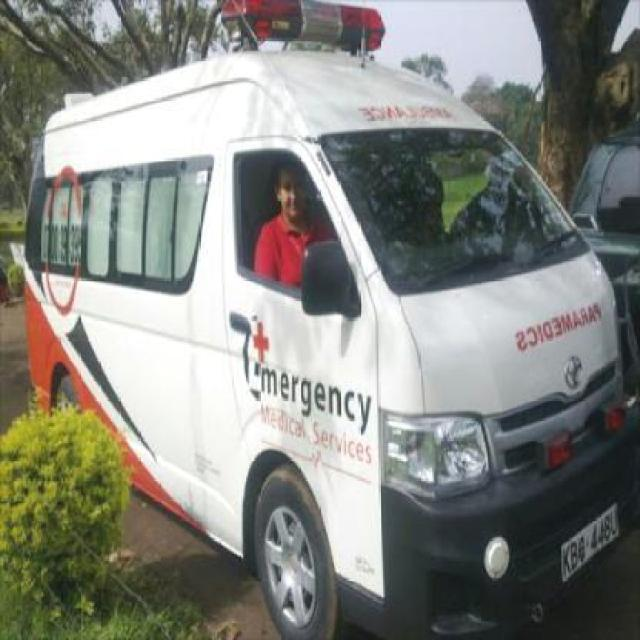emergency: (17, 0, 639, 638)
